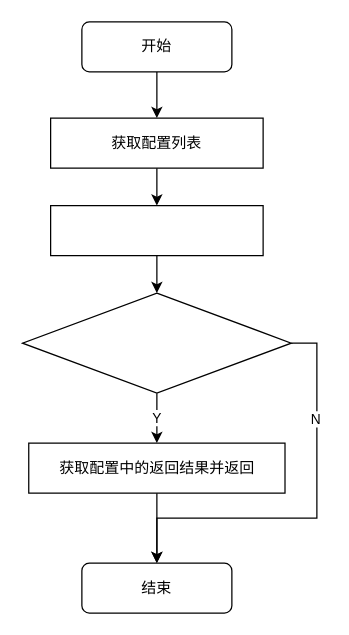
Some shapes in this 349 by 635 pixel diagram are drawn without their labels. The box of each missing label's shape, as (x1, y1, x2, y2) in pixels:
APP中执行对应的方法: (49, 204, 263, 256)
通过配置列表判断是否拦截: (21, 292, 291, 393)
